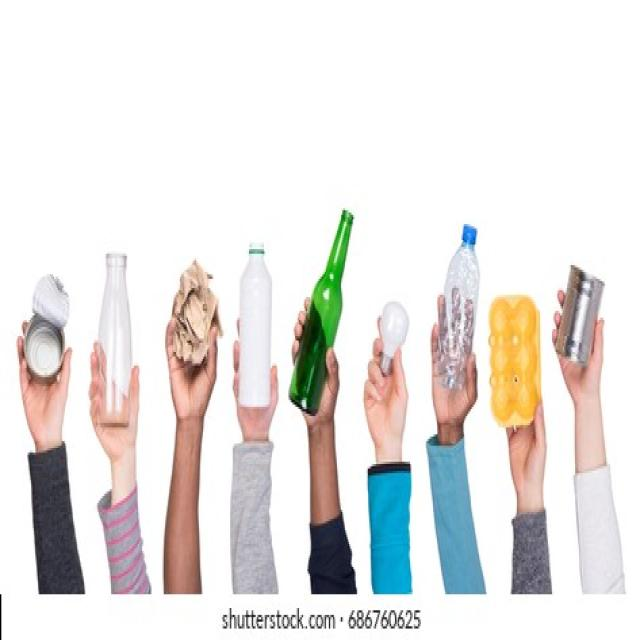glass: (98, 276, 136, 388), (322, 260, 345, 324), (383, 306, 407, 345)
metal: (27, 284, 69, 371), (558, 272, 600, 334)
paper: (171, 284, 211, 364)
plastic: (494, 295, 537, 411), (237, 263, 276, 388), (450, 270, 480, 336)
